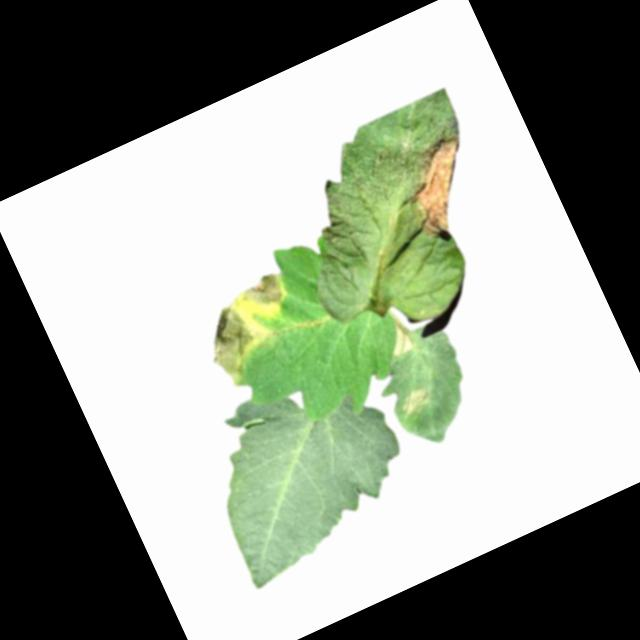Late_blight: (386, 127, 495, 245), (190, 297, 273, 393), (232, 269, 292, 321), (378, 314, 416, 357), (396, 383, 434, 418)
healthy: (181, 349, 430, 590)
